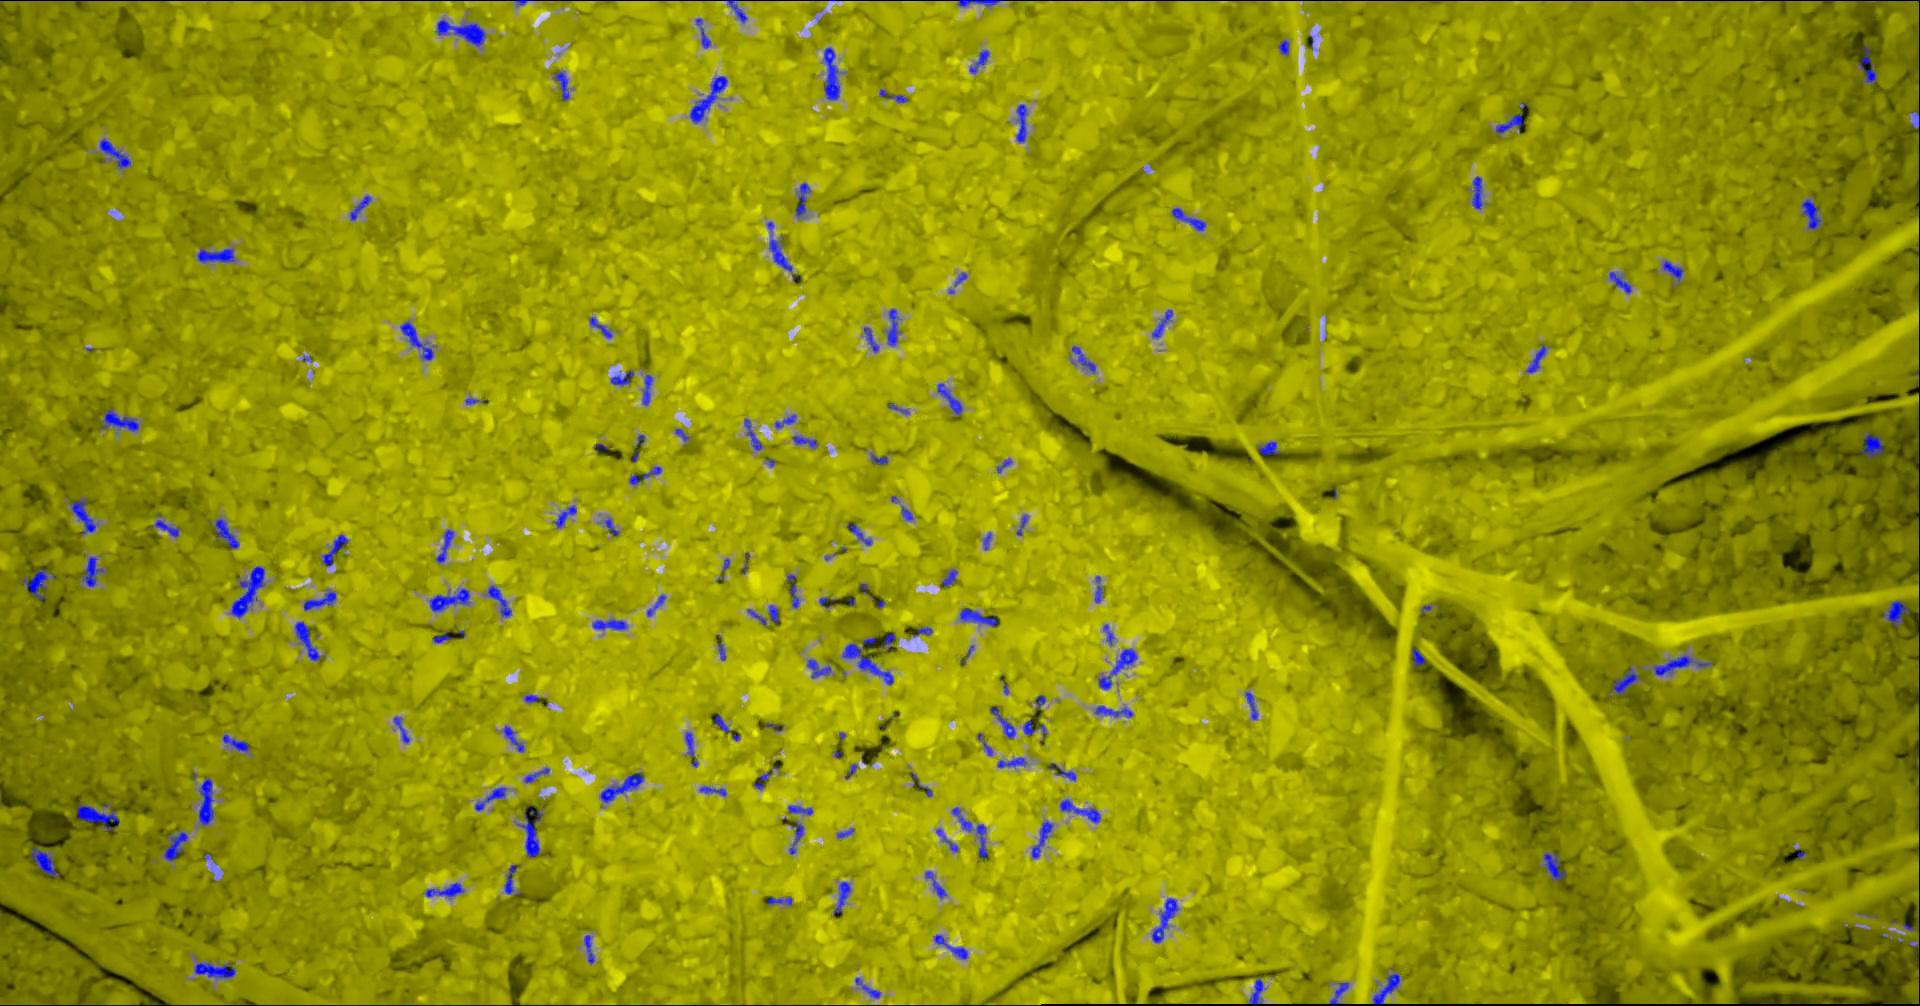ant: (842, 636, 893, 683), (951, 807, 987, 859), (690, 75, 728, 123), (230, 565, 264, 617), (516, 807, 542, 857), (766, 221, 791, 273), (436, 19, 485, 46), (599, 771, 643, 801), (399, 321, 433, 359), (1150, 897, 1177, 942), (76, 803, 118, 829), (1652, 655, 1710, 674), (295, 621, 319, 661), (1059, 799, 1100, 822), (70, 498, 95, 533), (429, 588, 469, 611), (99, 138, 130, 168), (1371, 973, 1399, 1005), (933, 934, 968, 959), (823, 47, 839, 99), (936, 384, 963, 415), (321, 533, 347, 567), (100, 409, 138, 431), (30, 847, 58, 876), (22, 568, 47, 600), (1171, 207, 1205, 230), (990, 706, 1015, 738), (1031, 821, 1051, 857), (1611, 667, 1639, 694), (712, 713, 739, 741), (198, 777, 213, 826), (163, 831, 187, 861), (959, 607, 997, 626), (474, 788, 505, 810), (1882, 600, 1909, 626), (1110, 648, 1137, 674), (215, 518, 239, 547), (1858, 44, 1876, 84), (488, 586, 510, 616), (193, 962, 235, 978), (303, 588, 335, 610), (1070, 345, 1095, 372), (1859, 432, 1883, 459), (1801, 198, 1821, 229), (151, 513, 178, 536), (1543, 854, 1566, 880), (1150, 309, 1172, 337), (924, 870, 946, 898), (83, 556, 103, 586), (629, 466, 662, 484), (436, 528, 453, 561), (196, 246, 234, 262), (1525, 344, 1545, 372), (743, 418, 761, 450), (552, 506, 577, 528), (935, 828, 957, 852), (424, 882, 463, 895), (846, 523, 871, 545), (503, 725, 524, 751), (833, 882, 850, 915), (1495, 114, 1523, 133), (723, 0, 745, 23), (795, 183, 810, 217), (1608, 271, 1630, 293), (909, 772, 931, 796), (1048, 762, 1076, 780), (349, 196, 370, 220), (855, 977, 879, 997), (695, 18, 710, 48), (1662, 260, 1683, 283), (589, 316, 612, 337), (789, 821, 803, 854), (806, 659, 830, 678), (684, 730, 697, 766), (1015, 103, 1026, 142), (554, 71, 569, 100), (392, 716, 409, 743), (222, 734, 249, 751), (969, 50, 988, 72), (888, 307, 899, 345), (1330, 982, 1349, 1005), (1248, 977, 1263, 1005), (1095, 705, 1131, 716), (786, 574, 799, 607), (646, 594, 665, 616), (879, 88, 907, 102), (523, 767, 549, 782), (1470, 177, 1482, 210), (863, 326, 877, 352), (1244, 691, 1257, 719), (610, 370, 632, 385), (592, 619, 626, 629), (631, 434, 644, 461), (1257, 441, 1281, 455), (504, 864, 516, 893), (583, 934, 594, 963), (792, 434, 817, 447), (997, 757, 1026, 767), (753, 772, 771, 789), (957, 0, 1003, 6), (775, 414, 795, 428), (698, 785, 726, 795), (643, 373, 651, 405), (941, 569, 957, 586), (1411, 647, 1423, 667), (604, 517, 618, 535), (881, 633, 895, 650), (787, 805, 811, 815), (1095, 575, 1103, 602), (1022, 719, 1036, 735), (766, 895, 791, 904), (1103, 624, 1114, 645), (870, 452, 888, 464), (717, 634, 725, 661), (768, 605, 778, 622), (1098, 674, 1111, 688), (819, 597, 836, 607), (902, 506, 913, 520), (432, 633, 450, 641), (1277, 39, 1288, 55)
